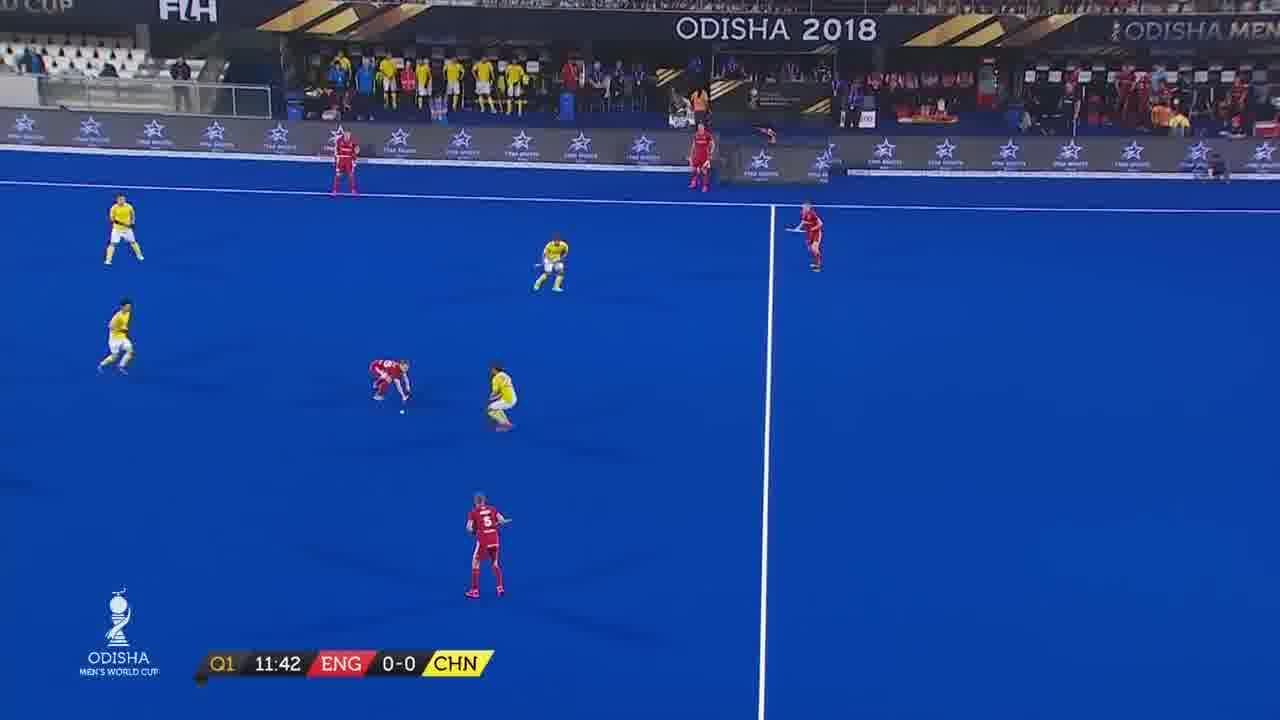ball: (394, 402, 412, 418)
